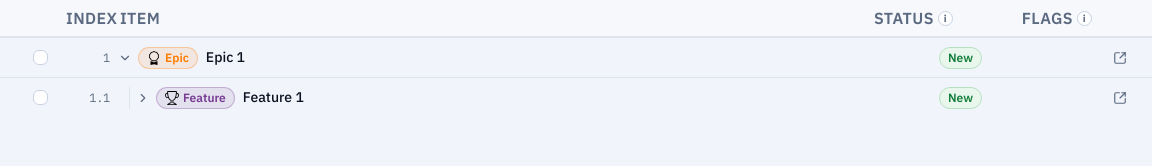
Scenario: DiffTree › renders BOTH the flagged icon and the full action badge text when a row is flagged and reuses an existing item -- neither clips the other
Click the button named "expand feature 1" at (143, 98), box [134, 88, 152, 106]
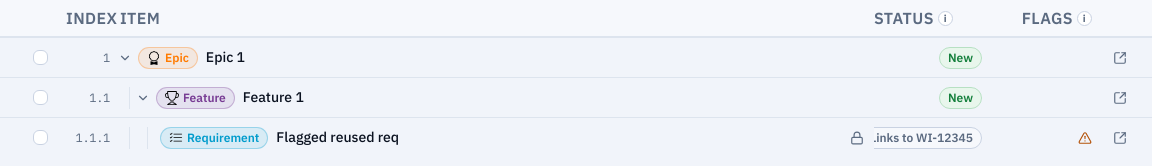
Check: the element titled "low grounding" is shown, box [1078, 130, 1092, 144]
Check: the text "Links to WI-12345" is shown, box [874, 126, 982, 148]
